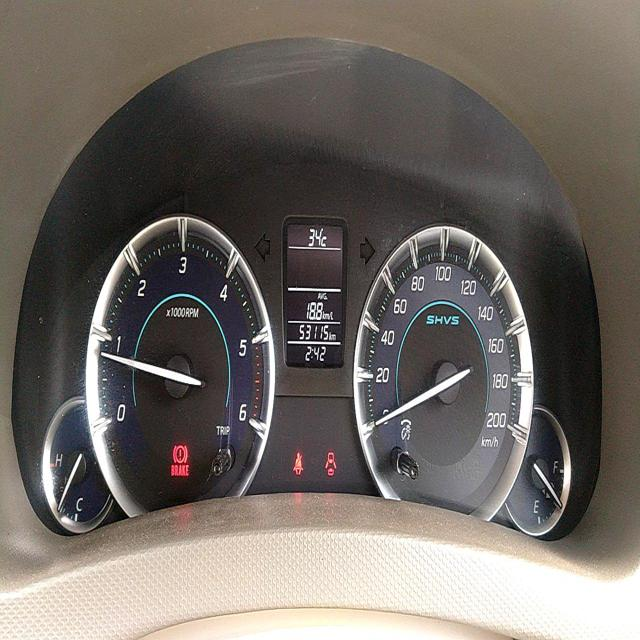odometer: (296, 321, 330, 343)
